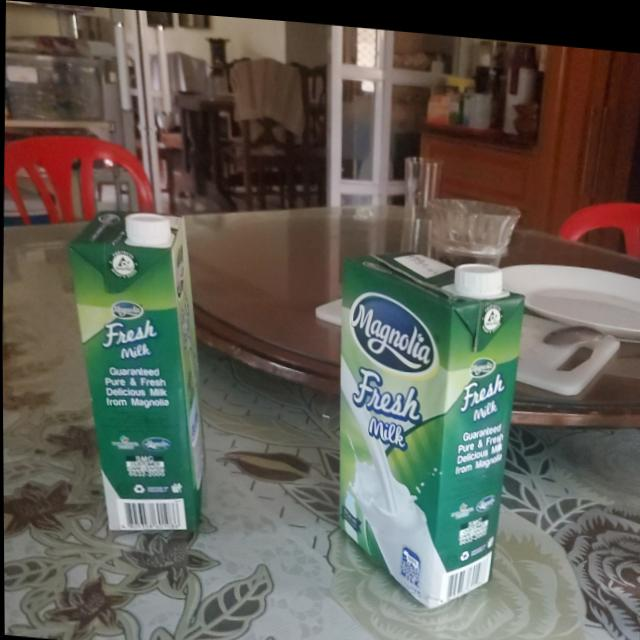milk: (333, 243, 526, 608), (58, 207, 211, 540)
